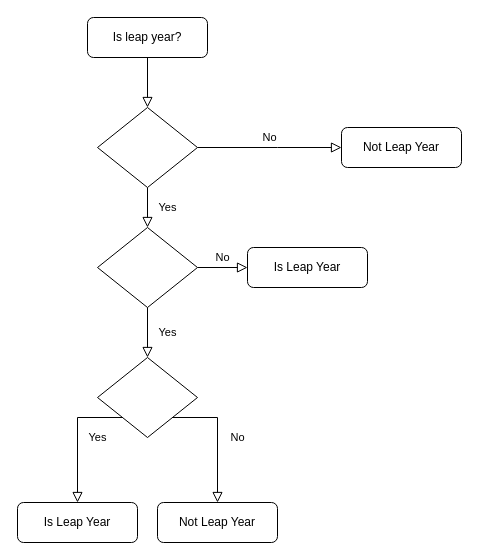
Some shapes in this 479 by 560 pixel diagram are drawn without their labels. Here are the shapes that lost their labels. From the top down, the centre of each, then its label:
At pixel 147 147: "Divisible by 4?".
At pixel 147 267: "Divisible by 100?".
At pixel 147 397: "Divisible by 400?".
